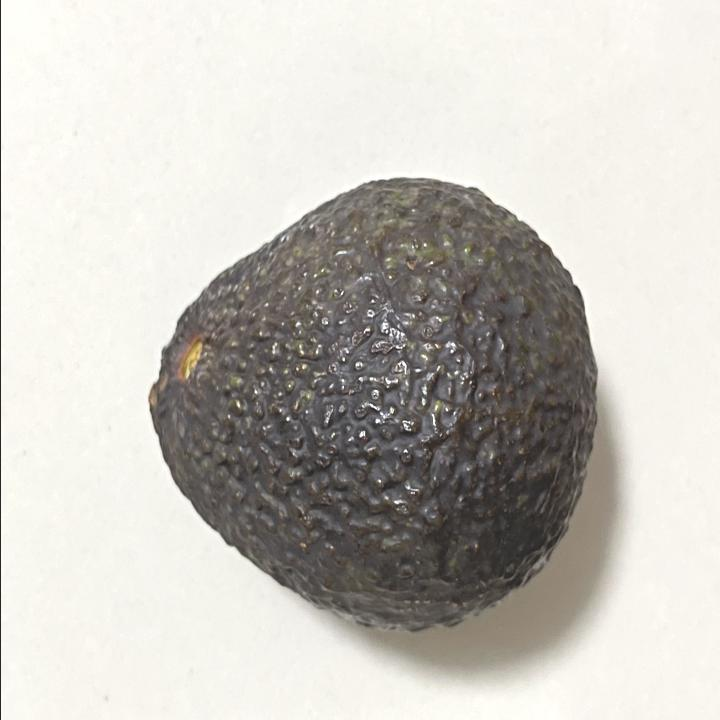Level2: (134, 165, 603, 642)
